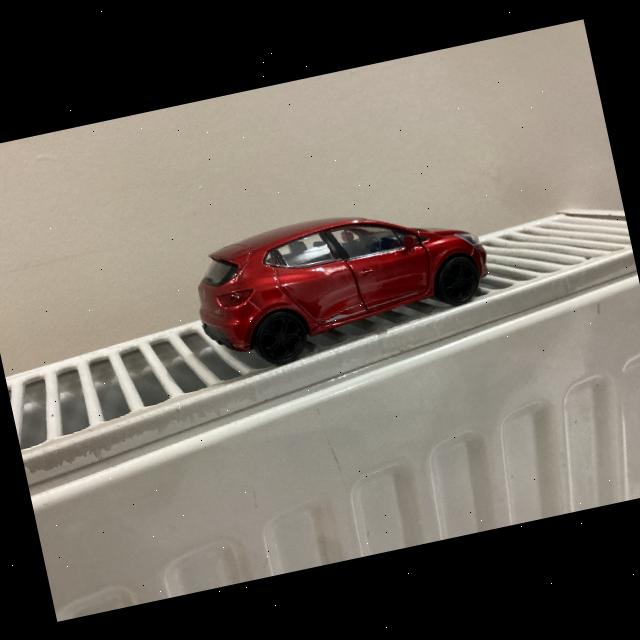Dogru_Jant: (258, 314, 304, 361), (440, 259, 478, 302)
